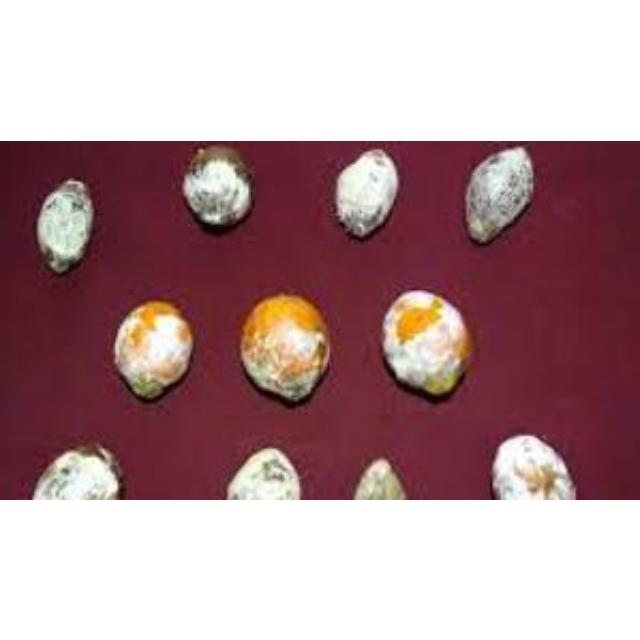damaged: (380, 288, 474, 396), (239, 291, 331, 401), (111, 297, 195, 399), (464, 143, 538, 247), (180, 143, 256, 235), (34, 176, 96, 276), (333, 146, 399, 238), (490, 434, 576, 498), (28, 442, 122, 498), (228, 447, 300, 498), (350, 457, 408, 499)
